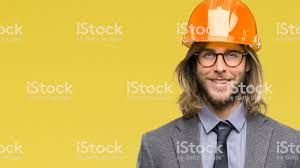Person_wearing_helmet: (176, 0, 260, 68)
